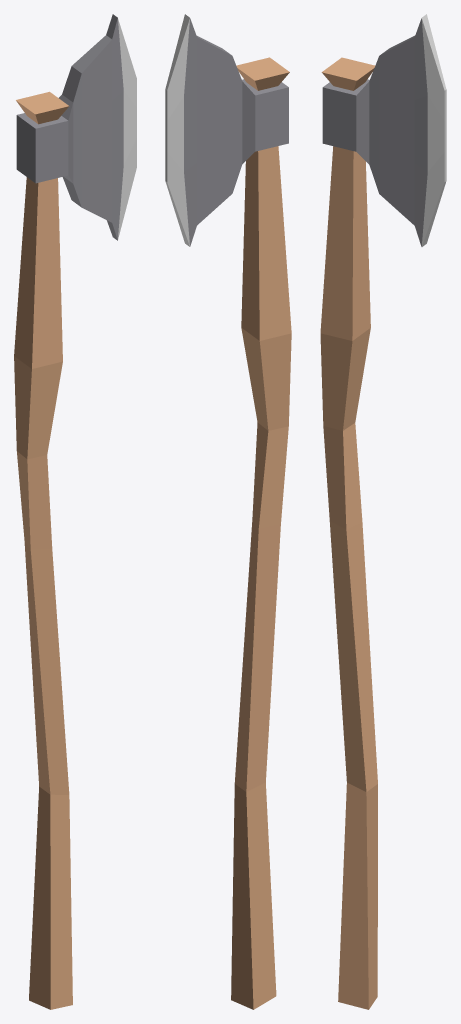
The model's file is LowPolyBerdish.fbx.
The picture shows the model from 3 angles, left to right: view 1: azimuth 30°, elevation 25°; view 2: azimuth 210°, elevation 25°; view 3: azimuth 330°, elevation 25°; orthographic projection. The views are drawn at different scales.
Visible parts, largest first — view 1: Cube; view 2: Cube; view 3: Cube.
Boxes of the visible parts, box(x1,y1,x2,y2) form: Cube: box(14, 14, 136, 1009); Cube: box(165, 14, 291, 1009); Cube: box(320, 14, 446, 1009).
Size of the model in its own units: 18.63 by 152 by 5.59.
